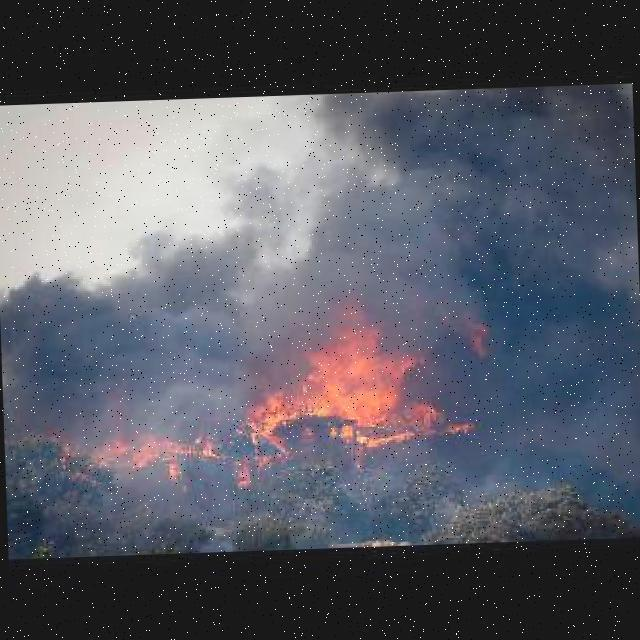Fire: (233, 284, 505, 456), (71, 418, 219, 470)
Smoke: (0, 167, 256, 432)
